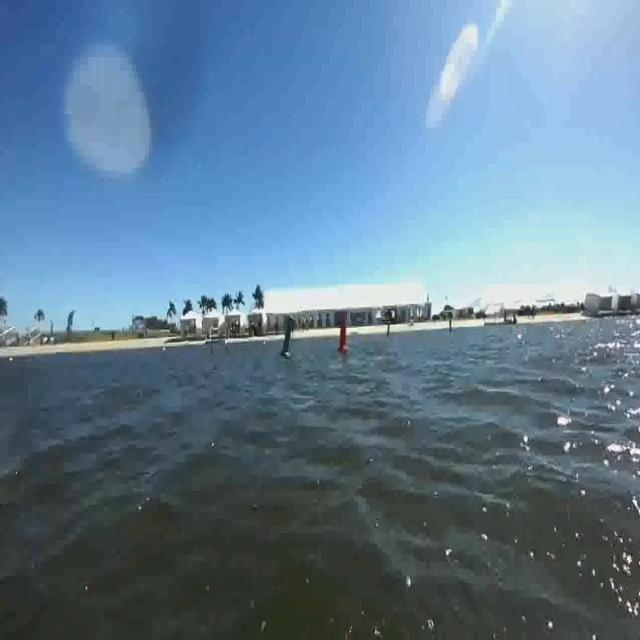green-column-buoy: (281, 316, 295, 359)
red-column-buoy: (335, 308, 356, 364)
